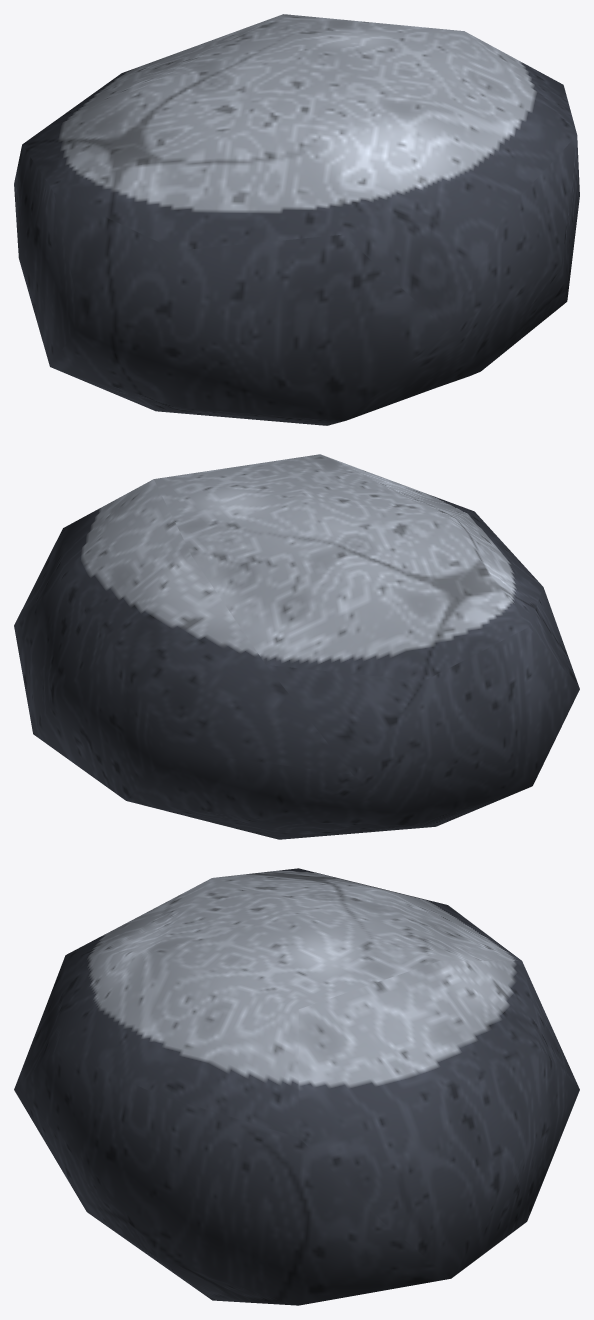
Rendered from cold_stone.glb.
3 views of the same model, one above another, from view 1: azimuth 30°, elevation 25°; view 2: azimuth 150°, elevation 25°; view 3: azimuth 270°, elevation 25° (orthographic). The views are drawn at different scales.
Visible parts, largest first — view 1: ColdStone; view 2: ColdStone; view 3: ColdStone.
Part boxes in pixels (left/top/right/bottom): ColdStone: left=14, top=14, right=579, bottom=425; ColdStone: left=14, top=454, right=579, bottom=839; ColdStone: left=14, top=868, right=579, bottom=1305.
Size of the model in its own units: 1.03 by 0.6351 by 0.9272.
1 material, 1 textured.
